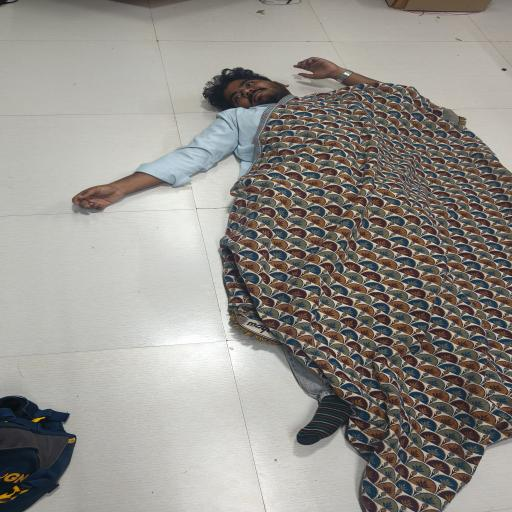survivor: (70, 56, 512, 446)
